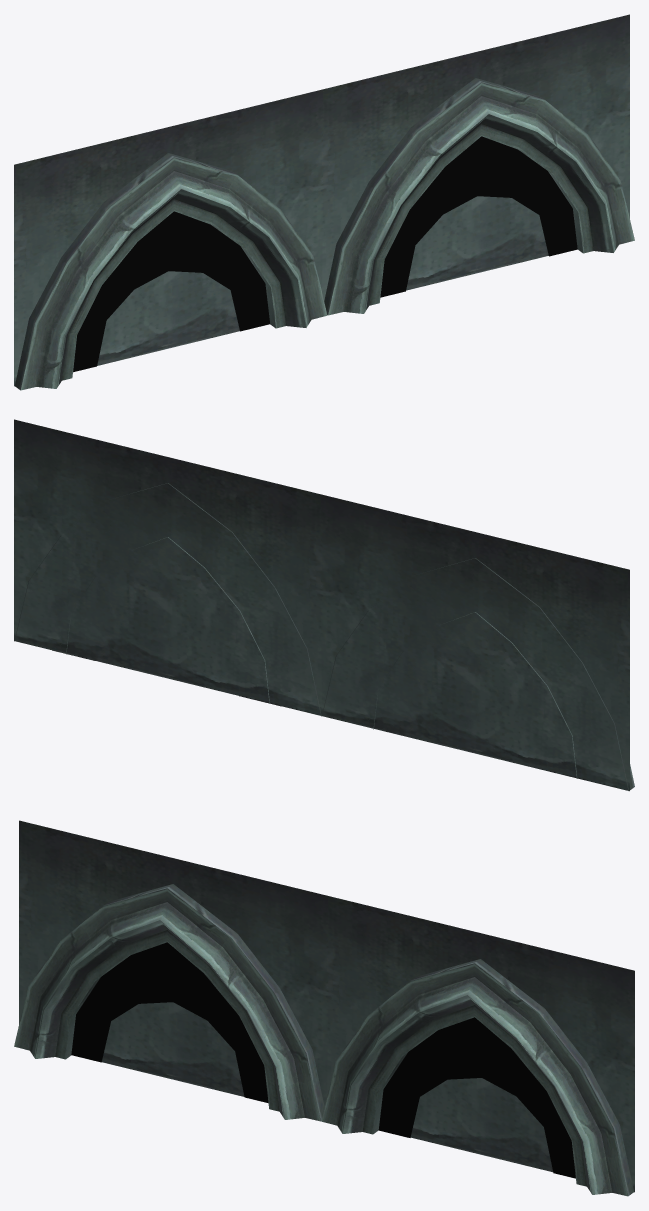
The model's file is crypt_quarter_straight_02.fbx.
The picture shows the model from 3 angles, top to bottom: view 1: azimuth 30°, elevation 25°; view 2: azimuth 150°, elevation 25°; view 3: azimuth 330°, elevation 25°; orthographic projection.
Parts seen in each view (by area): view 1: crypt_quarter_straight_02-0; view 2: crypt_quarter_straight_02-0; view 3: crypt_quarter_straight_02-0.
Part boxes in pixels (x1,y1,x2,y2): crypt_quarter_straight_02-0: [14, 14, 634, 390]; crypt_quarter_straight_02-0: [14, 419, 634, 791]; crypt_quarter_straight_02-0: [14, 820, 634, 1196].
Bounding box in the file's own units: 4 × 1.38 × 0.1536.
